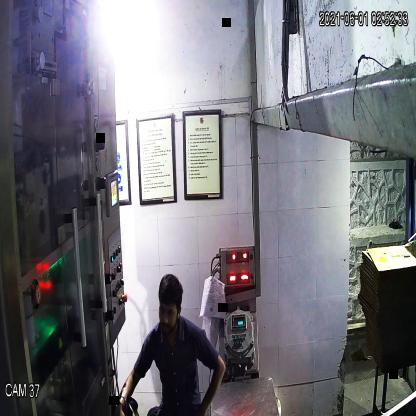no_goggles: (158, 301, 182, 322)
